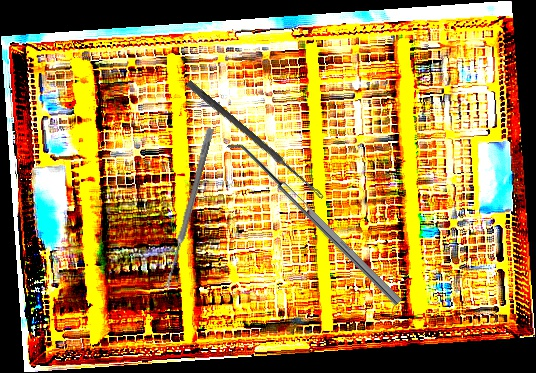Spatula Surgical: (224, 135, 403, 313)
Surgical Spoon: (185, 80, 326, 200), (163, 127, 214, 291)
